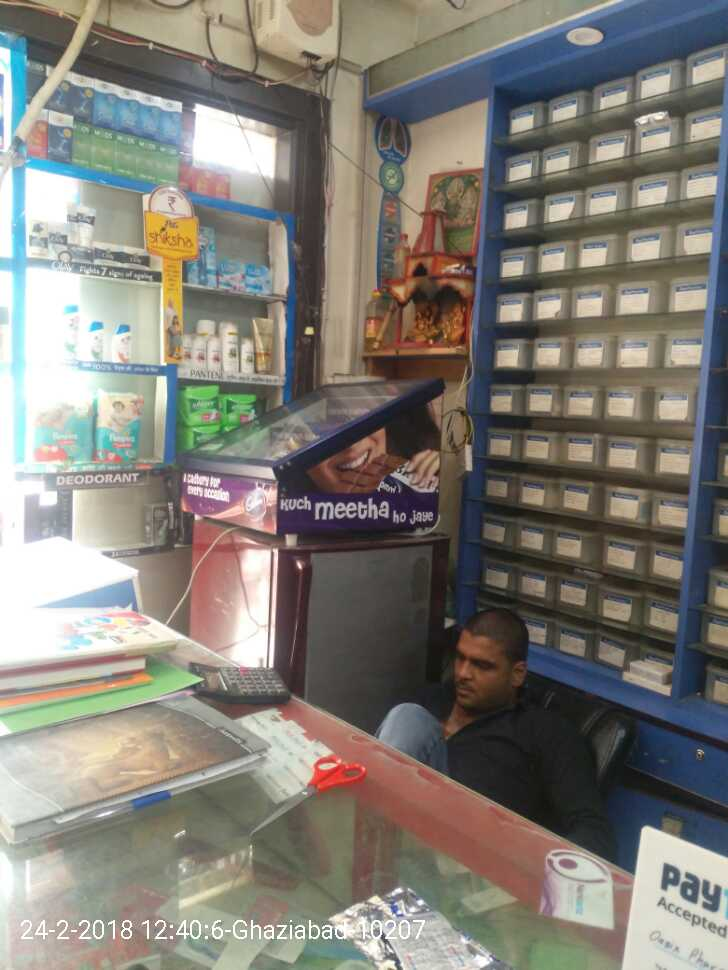venus: (197, 227, 215, 284), (218, 260, 244, 287), (247, 265, 272, 290)
